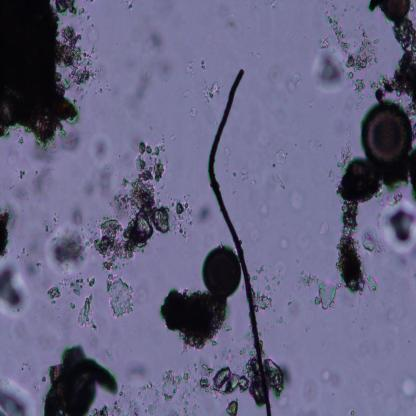Background material: (0, 0, 93, 146), (94, 136, 190, 269), (46, 342, 120, 415), (156, 286, 227, 350), (336, 200, 380, 298), (326, 14, 379, 90), (379, 17, 416, 99), (74, 154, 119, 220), (133, 19, 182, 79), (119, 350, 162, 414), (12, 164, 72, 206), (381, 196, 416, 256), (46, 225, 88, 267), (0, 264, 31, 314), (211, 364, 252, 400), (314, 48, 346, 92), (0, 376, 35, 415), (257, 262, 282, 316), (21, 232, 45, 288), (107, 274, 136, 318), (326, 142, 352, 184), (64, 271, 97, 301), (267, 355, 289, 396), (132, 66, 154, 104), (79, 294, 100, 332), (377, 1, 415, 22), (226, 166, 254, 194), (268, 140, 288, 179), (158, 370, 181, 403), (0, 206, 14, 259), (284, 65, 304, 100), (316, 368, 344, 392), (316, 280, 337, 312), (93, 136, 110, 162), (290, 188, 306, 215), (274, 231, 296, 249), (401, 373, 416, 398), (302, 382, 316, 408), (195, 202, 212, 223), (268, 54, 281, 81), (204, 83, 220, 104), (48, 284, 62, 304), (183, 57, 195, 78), (225, 400, 240, 414), (318, 218, 329, 236), (232, 18, 242, 37), (188, 107, 198, 118), (262, 205, 269, 219), (186, 87, 191, 99)
Diatom: (360, 100, 413, 166), (203, 246, 243, 297), (344, 158, 381, 204)
